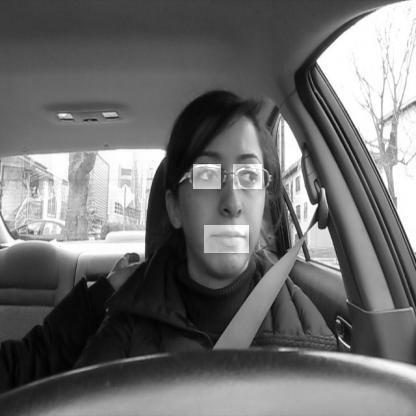seatbelt: (145, 85, 301, 349)
